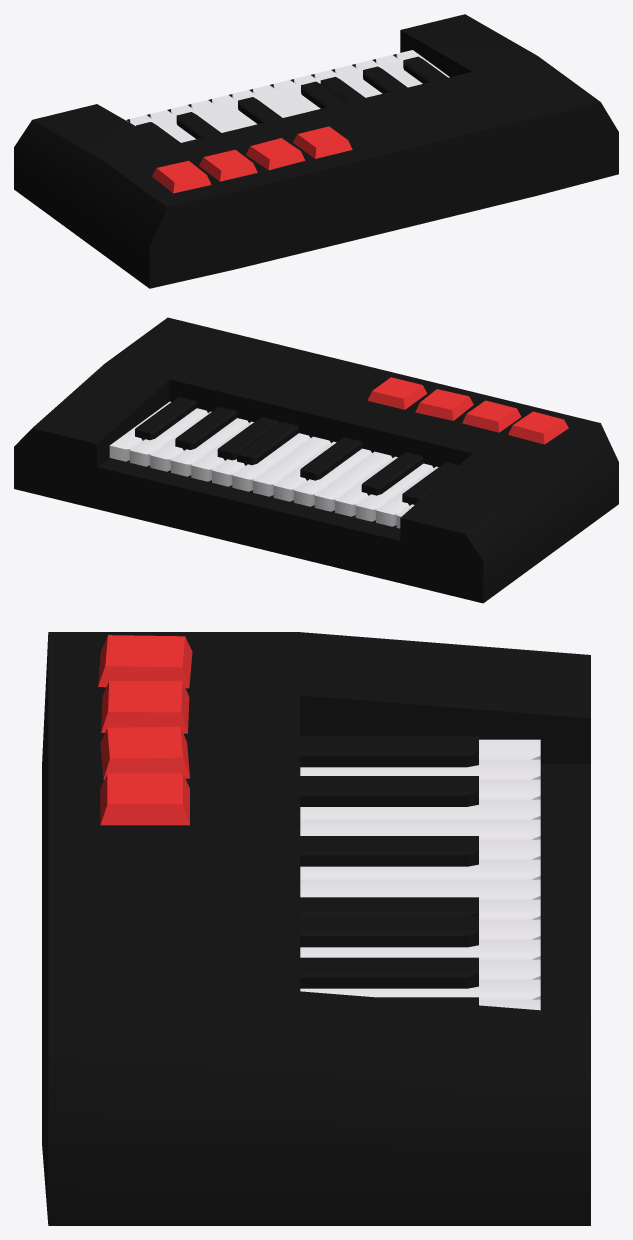
File: Keyboard.obj
The picture shows the model from 3 angles, top to bottom: view 1: azimuth 30°, elevation 25°; view 2: azimuth 150°, elevation 25°; view 3: azimuth 270°, elevation 25°; orthographic projection. The views are drawn at different scales.
Visible parts, largest first — view 1: Handle, Keys, Buttonz; view 2: Handle, Keys, Buttonz; view 3: Handle, Keys, Buttonz.
Boxes of the visible parts, x1,y1,x2,y2 form: Handle: (14,14,618,288); Keys: (125,50,449,142); Buttonz: (152,126,352,193); Handle: (14,317,618,603); Keys: (109,401,438,528); Buttonz: (367,377,568,444); Handle: (42,632,590,1225); Keys: (300,739,540,1010); Buttonz: (98,635,192,825).
Size of the model in its own units: 2.18 by 0.3799 by 1.1.
